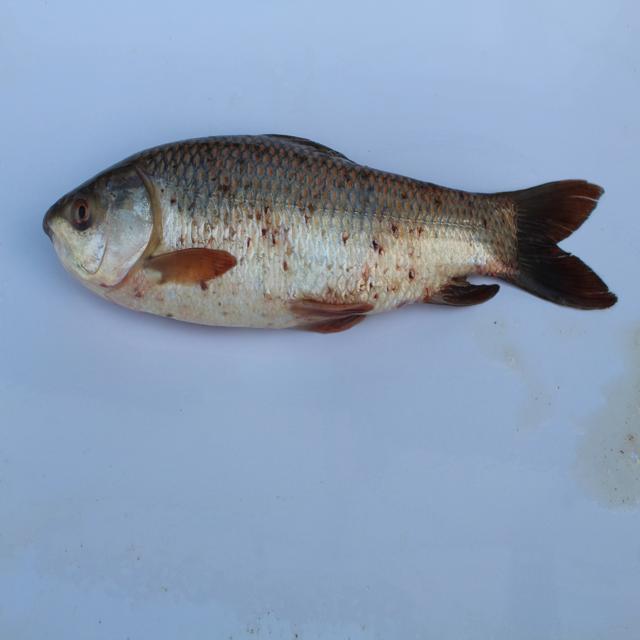Rohu: (47, 110, 614, 333)
